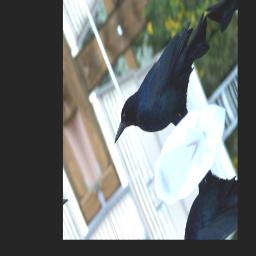Crow: (104, 3, 225, 183)
